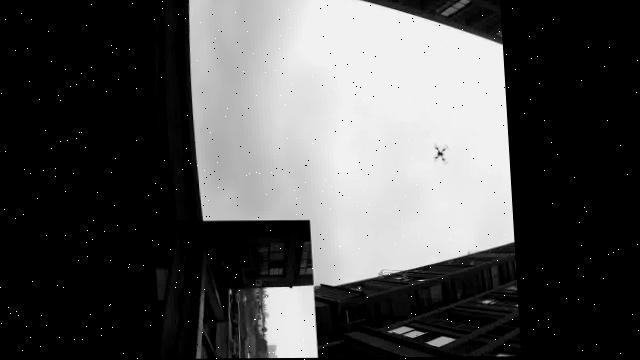drone: (418, 122, 463, 183)
